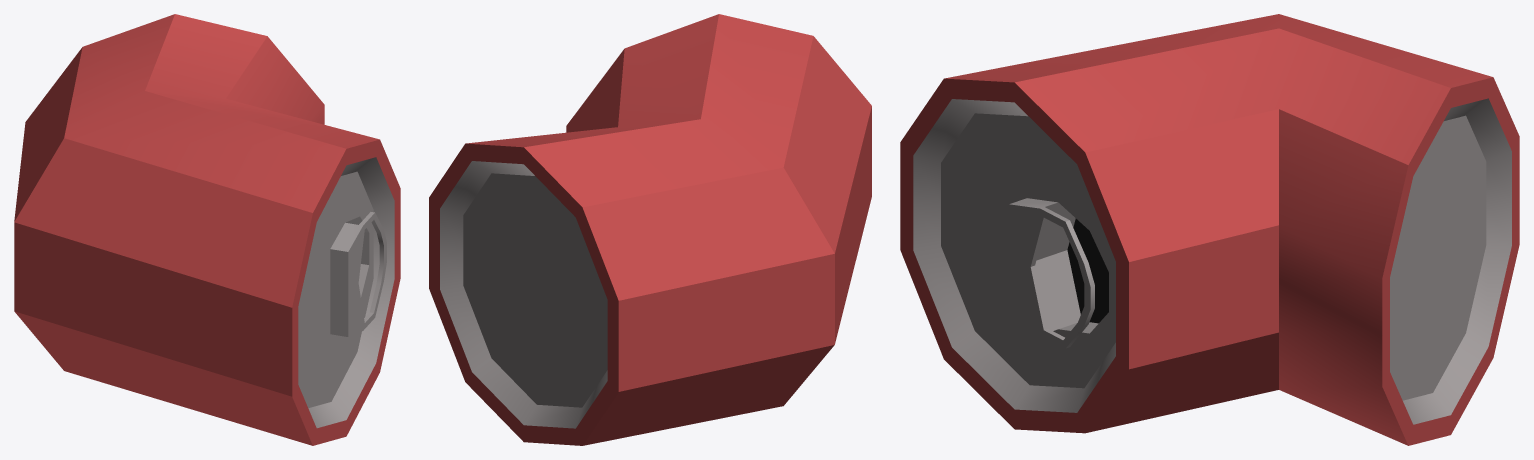
Rendered from Tin can(red).fbx.
3 renders of one model, left to right at view 1: azimuth 30°, elevation 25°; view 2: azimuth 150°, elevation 25°; view 3: azimuth 270°, elevation 25°, orthographic. The views are drawn at different scales.
Visible parts, largest first — view 1: Tin can(red); view 2: Tin can(red); view 3: Tin can(red).
Part boxes in pixels (box(x1,y1,x2,y2)): Tin can(red): box(14, 14, 400, 445); Tin can(red): box(429, 14, 871, 445); Tin can(red): box(900, 14, 1519, 445).
Size of the model in its own units: 24.1 by 18.76 by 30.36.
